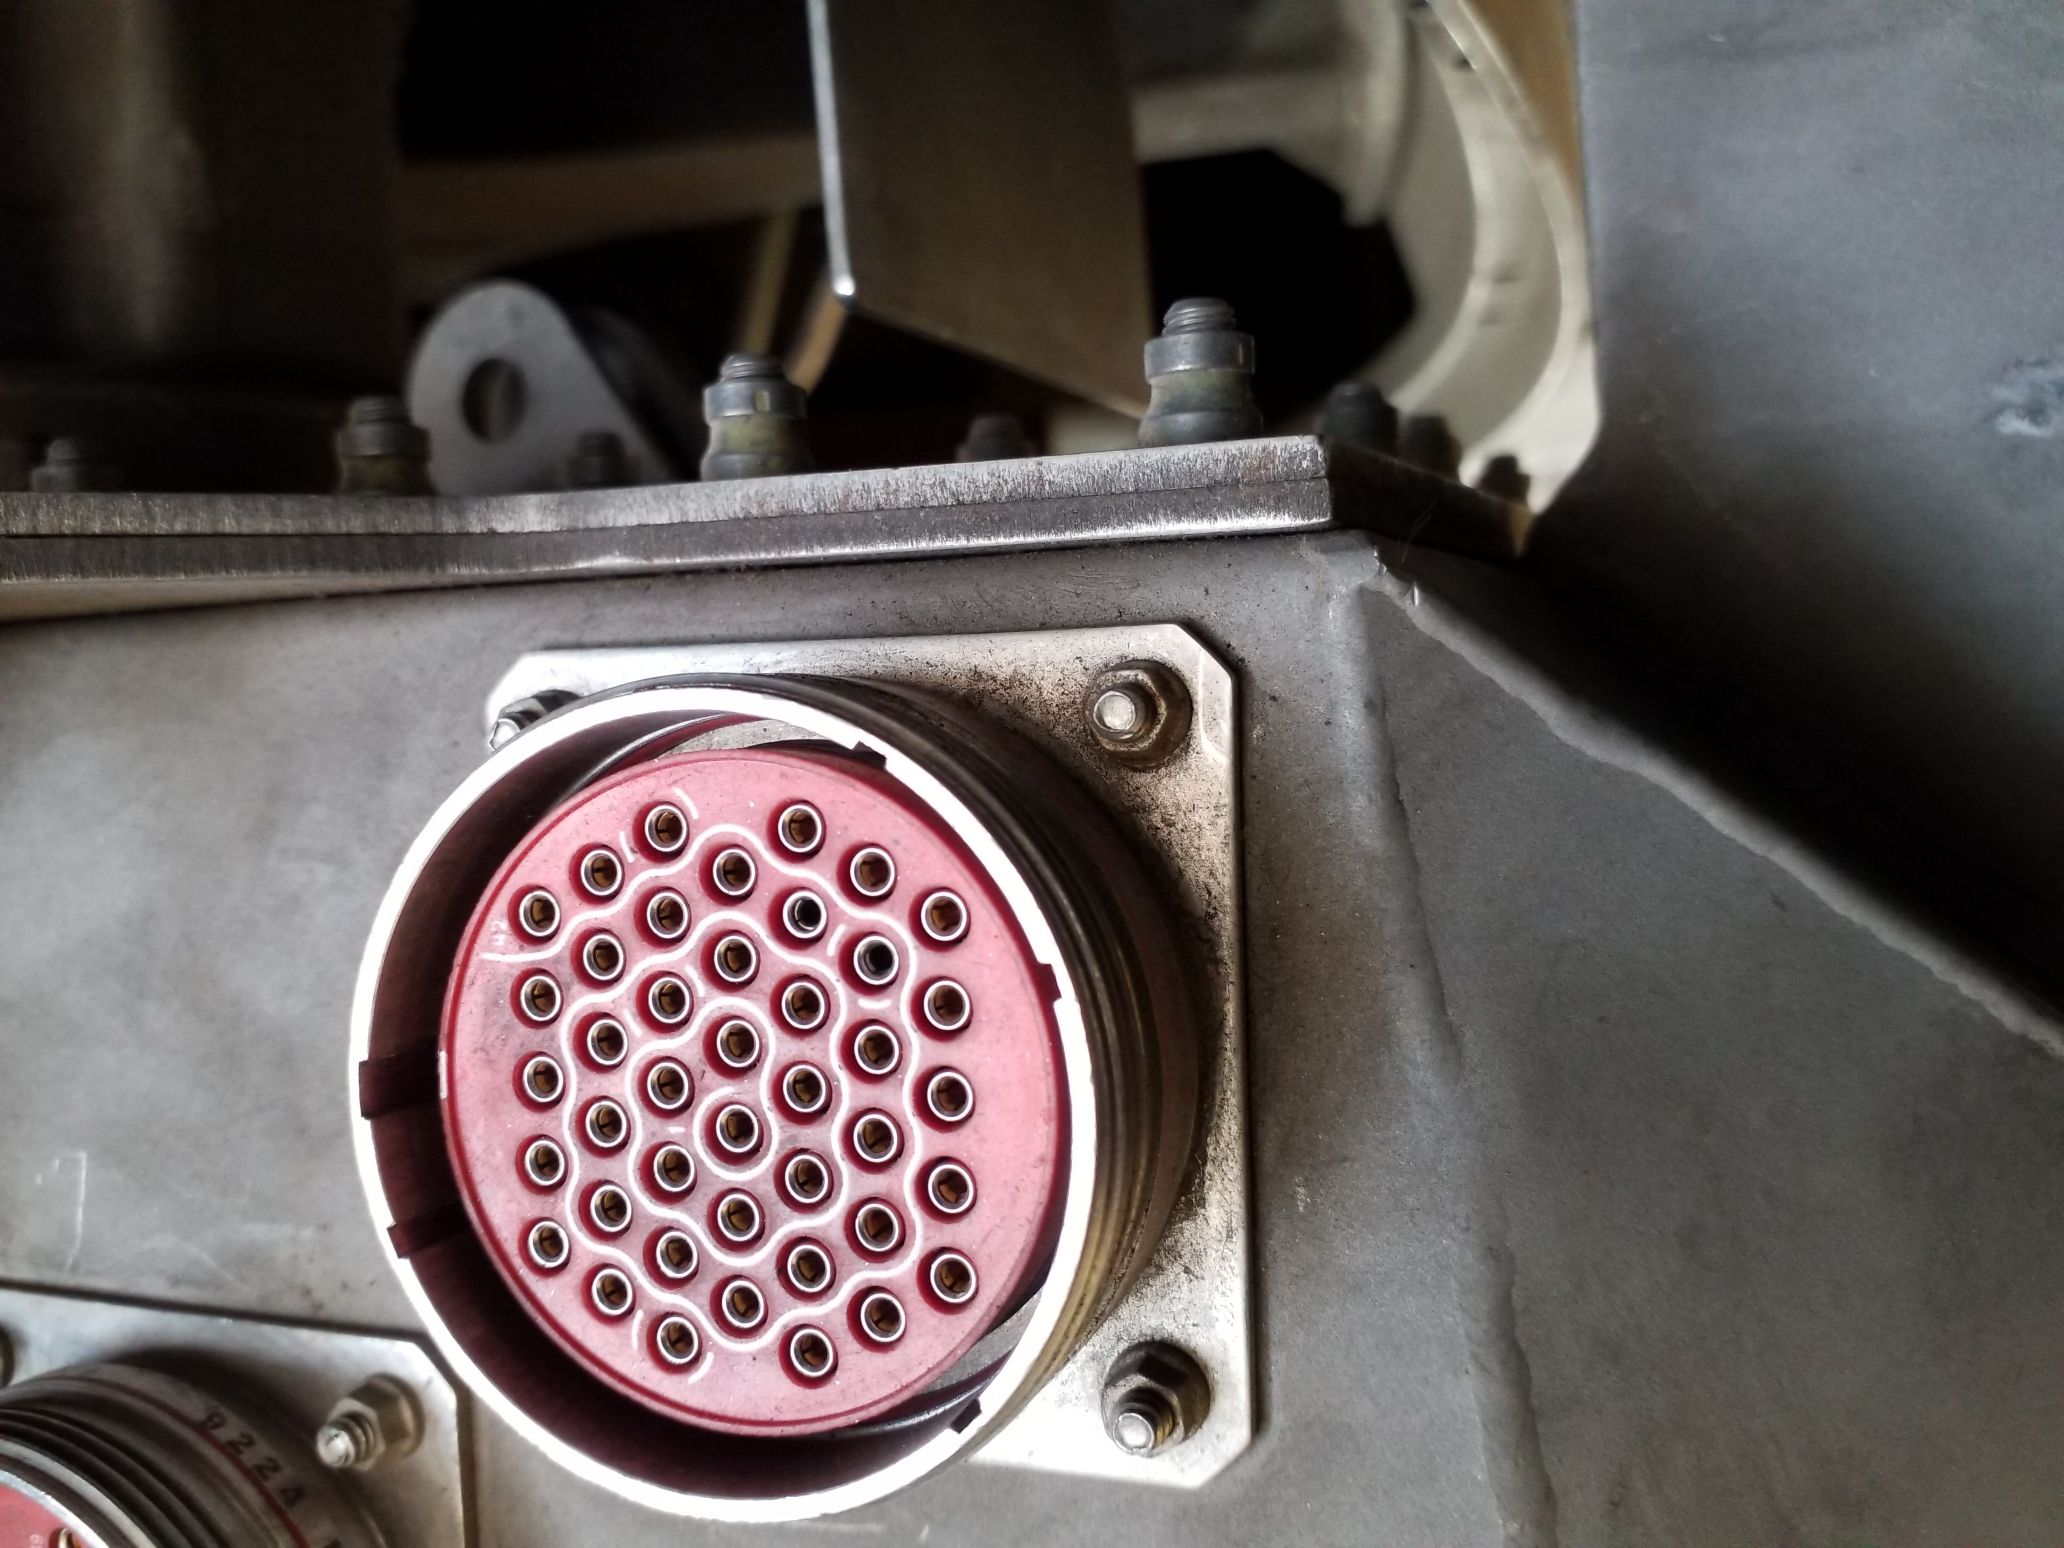inletround: (348, 663, 1134, 1515)
